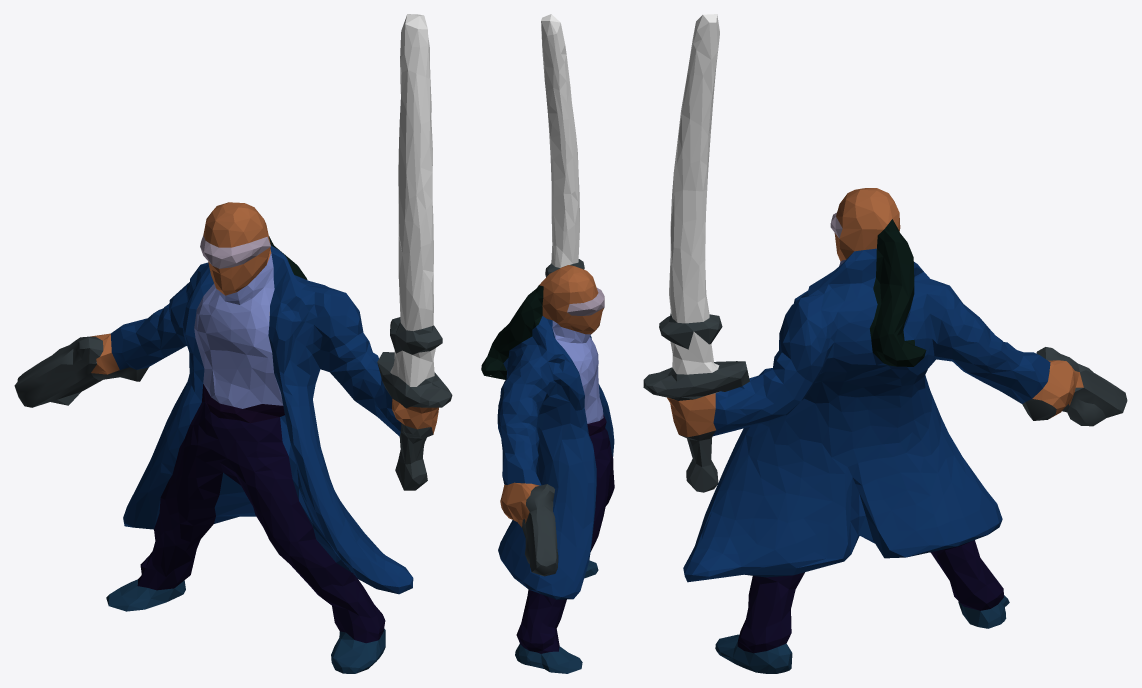
File: agent_carr_low_poly_colored.glb
3 views of the same model, side by side, from view 1: azimuth 30°, elevation 25°; view 2: azimuth 150°, elevation 25°; view 3: azimuth 270°, elevation 25° (orthographic). The views are drawn at different scales.
Parts seen in each view (by area): view 1: EditedDecimatedCarr; view 2: EditedDecimatedCarr; view 3: EditedDecimatedCarr.
Boxes of the visible parts, x1,y1,x2,y2 form: EditedDecimatedCarr: (14,14,452,673); EditedDecimatedCarr: (481,14,614,673); EditedDecimatedCarr: (643,14,1127,673).
Size of the model in its own units: 0.9497 by 2.72 by 1.8.
